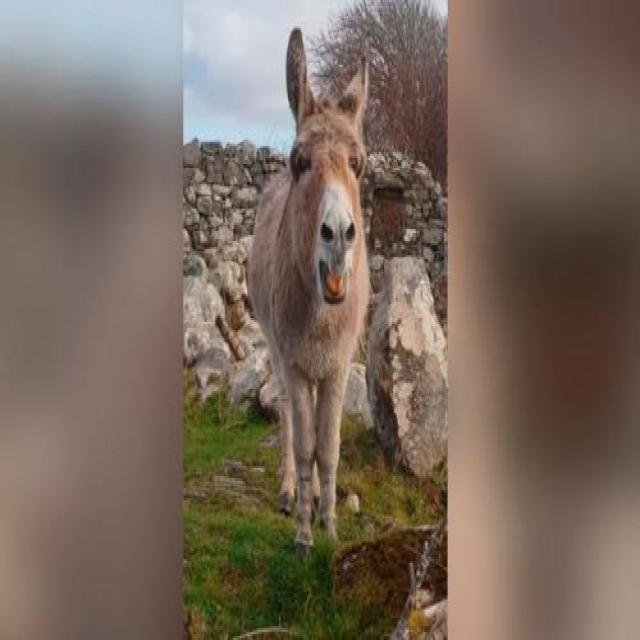Donkey: (250, 27, 368, 552)
